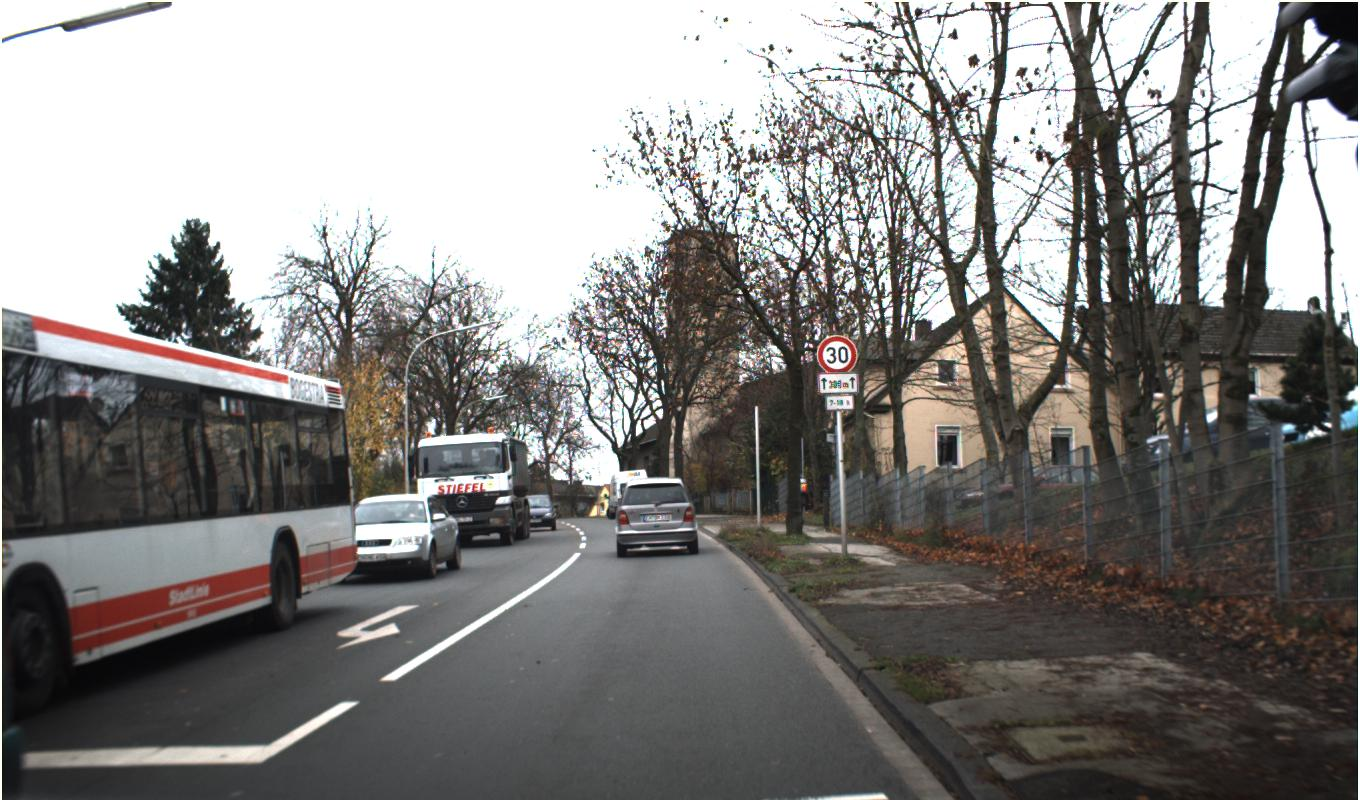prohibitory: (816, 334, 858, 374)
